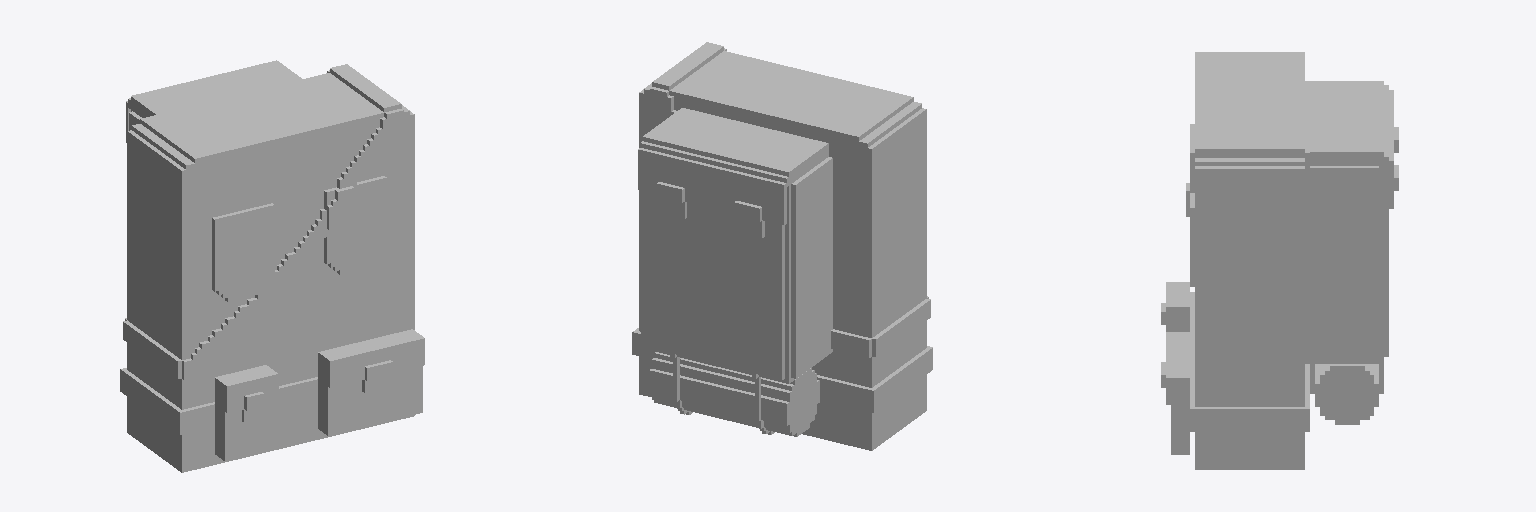
Rendered from Chest.obj.
3 views of the same model, side by side, from view 1: azimuth 30°, elevation 25°; view 2: azimuth 150°, elevation 25°; view 3: azimuth 270°, elevation 25° (orthographic).
Parts seen in each view (by area): view 1: Untitled; view 2: Untitled; view 3: Untitled.
Part boxes in pixels (x1,y1,x2,y2): Untitled: (120,60,424,472); Untitled: (632,42,932,450); Untitled: (1161,52,1398,469).
Size of the model in its own units: 5.6 by 7 by 4.8.